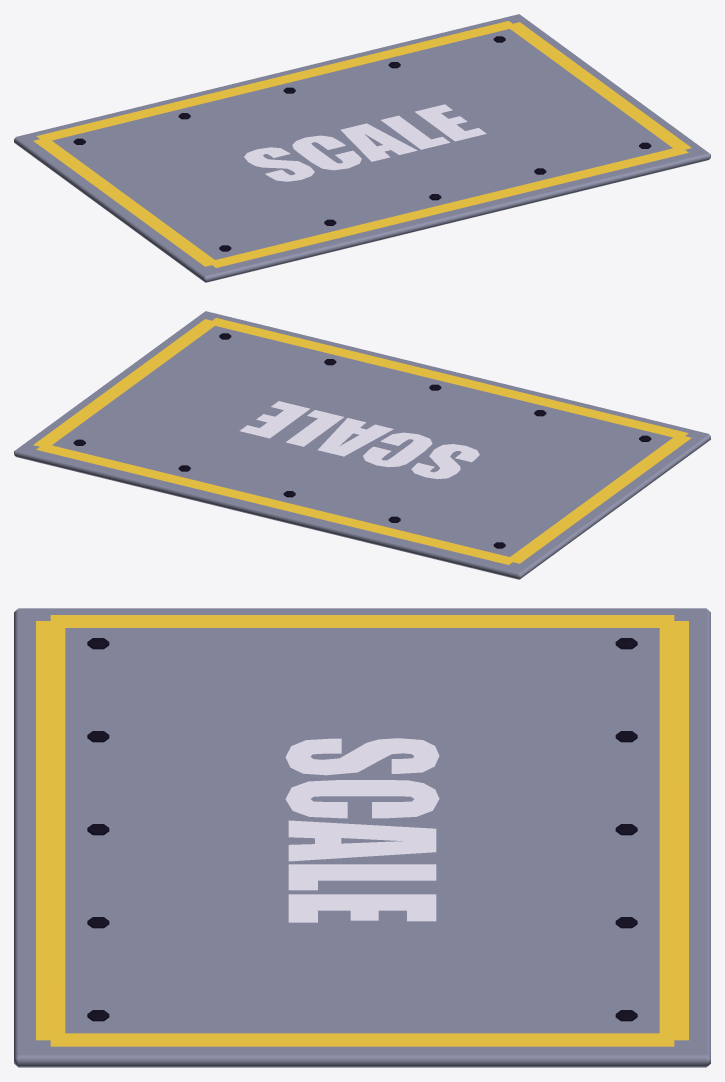
The model's file is truck_scale.glb.
3 renders of one model, top to bottom at view 1: azimuth 30°, elevation 25°; view 2: azimuth 150°, elevation 25°; view 3: azimuth 270°, elevation 25°, orthographic. The views are drawn at different scales.
Visible parts, largest first — view 1: Plate; view 2: Plate; view 3: Plate.
Boxes of the visible parts, left/top/right/bottom form: Plate: left=14, top=14, right=710, bottom=282; Plate: left=14, top=311, right=710, bottom=579; Plate: left=14, top=608, right=710, bottom=1067.
Bounding box in the file's own units: 2.9 × 0.05 × 1.9.
